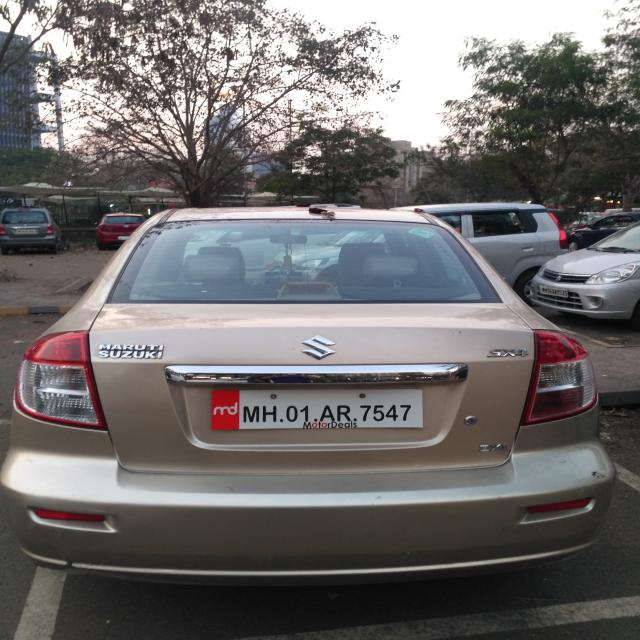Number-Plate: (206, 386, 423, 432)
